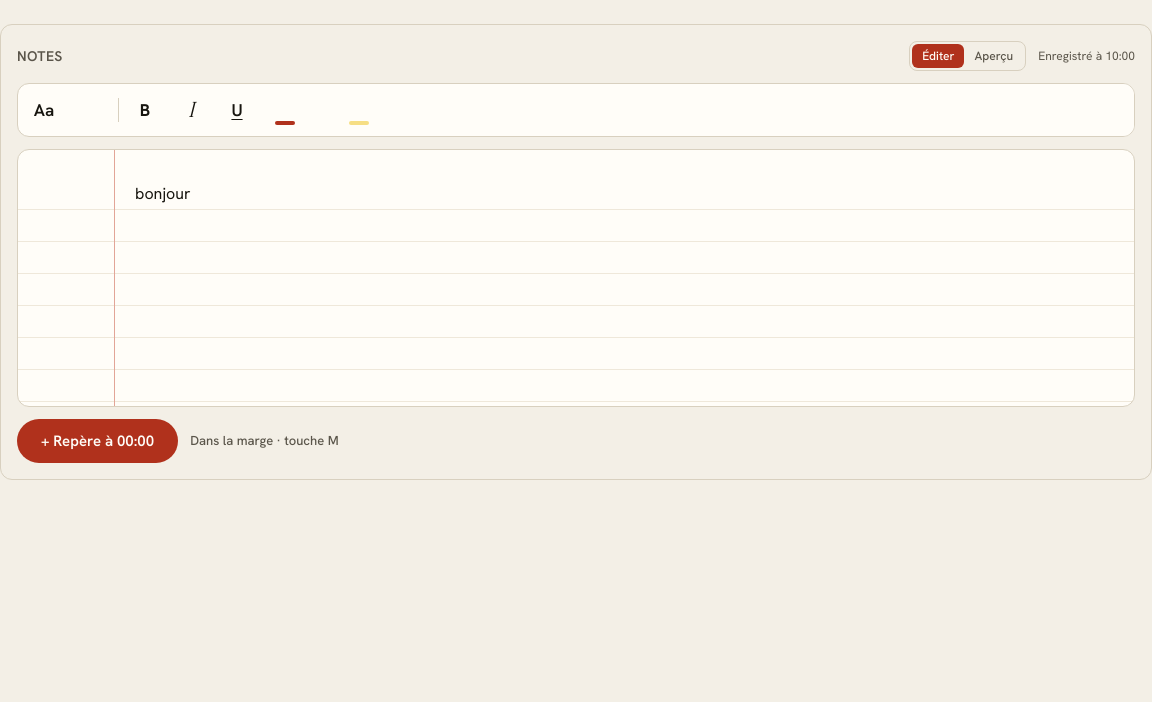
Test: phone toolbar and sheet (YC-47) › a video note with its player has the timestamps switch
Check: the field named "Note de la vidéo" reads "bonjour", box [135,183,190,204]
Click the button with aria-label "Toute la mise en forme" at coordinates (44, 110), box [22,88,66,132]
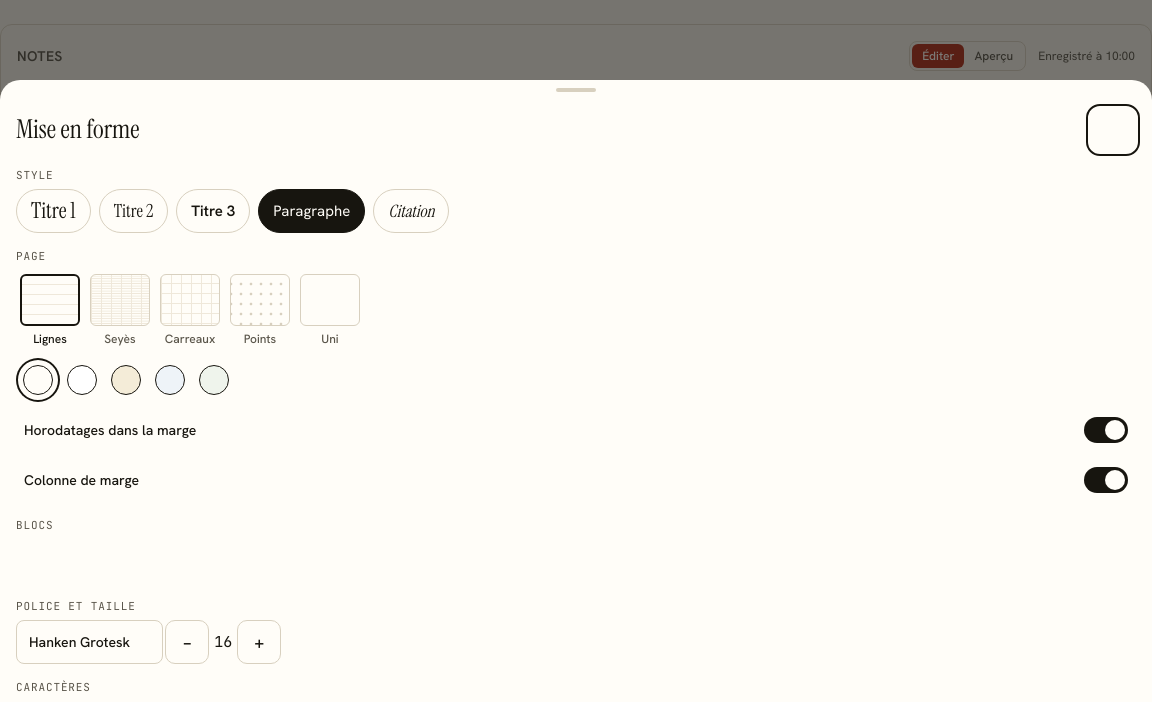
Check: the switch labelled "Horodatages dans la marge" is shown, box [16,408,1136,452]
